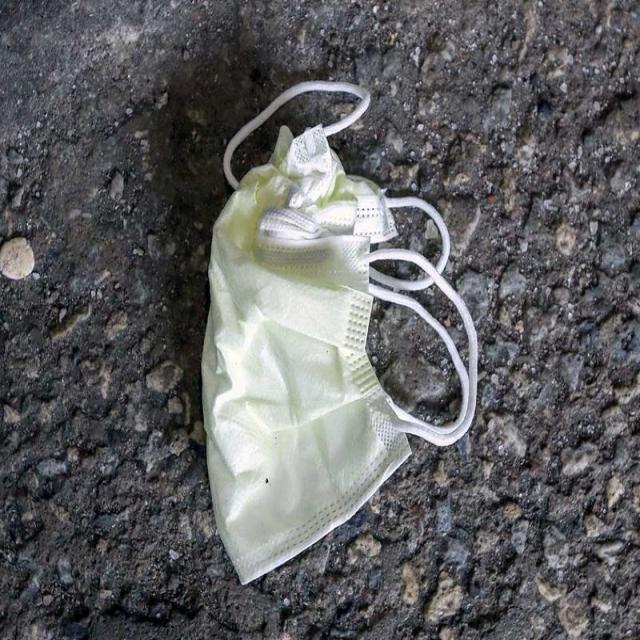face mask: (205, 80, 480, 582)
